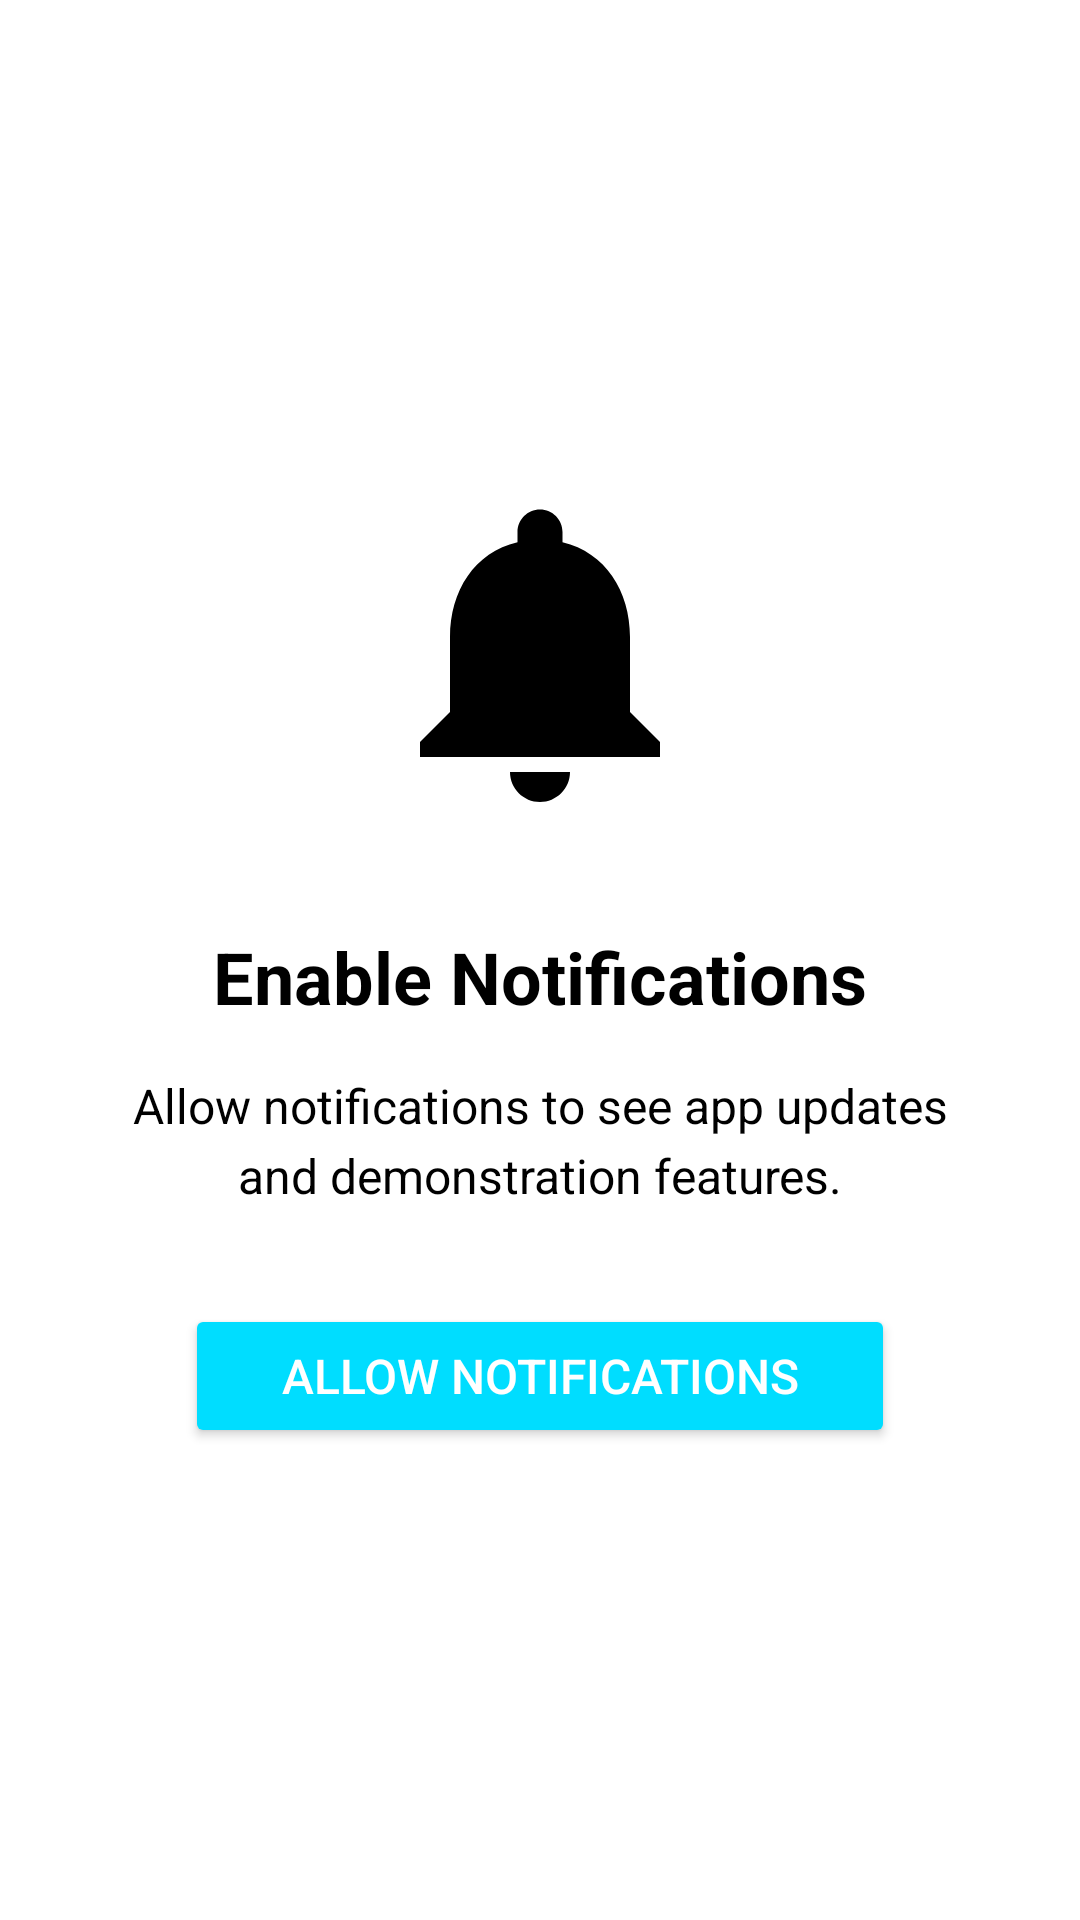

Icon click points for this 1080x1920 phone screenshot, format (x=x, y=y):
bell: (x=540, y=655)
